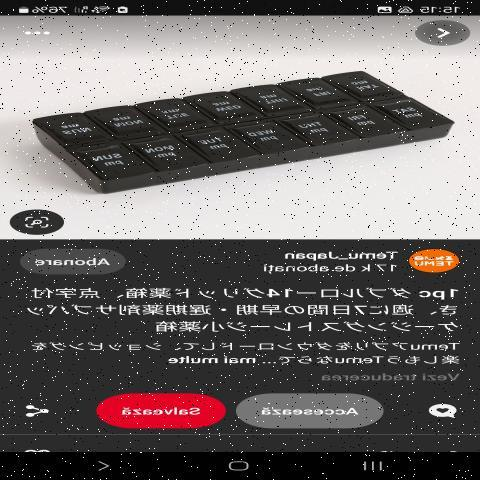PillBox: (29, 31, 464, 196)
